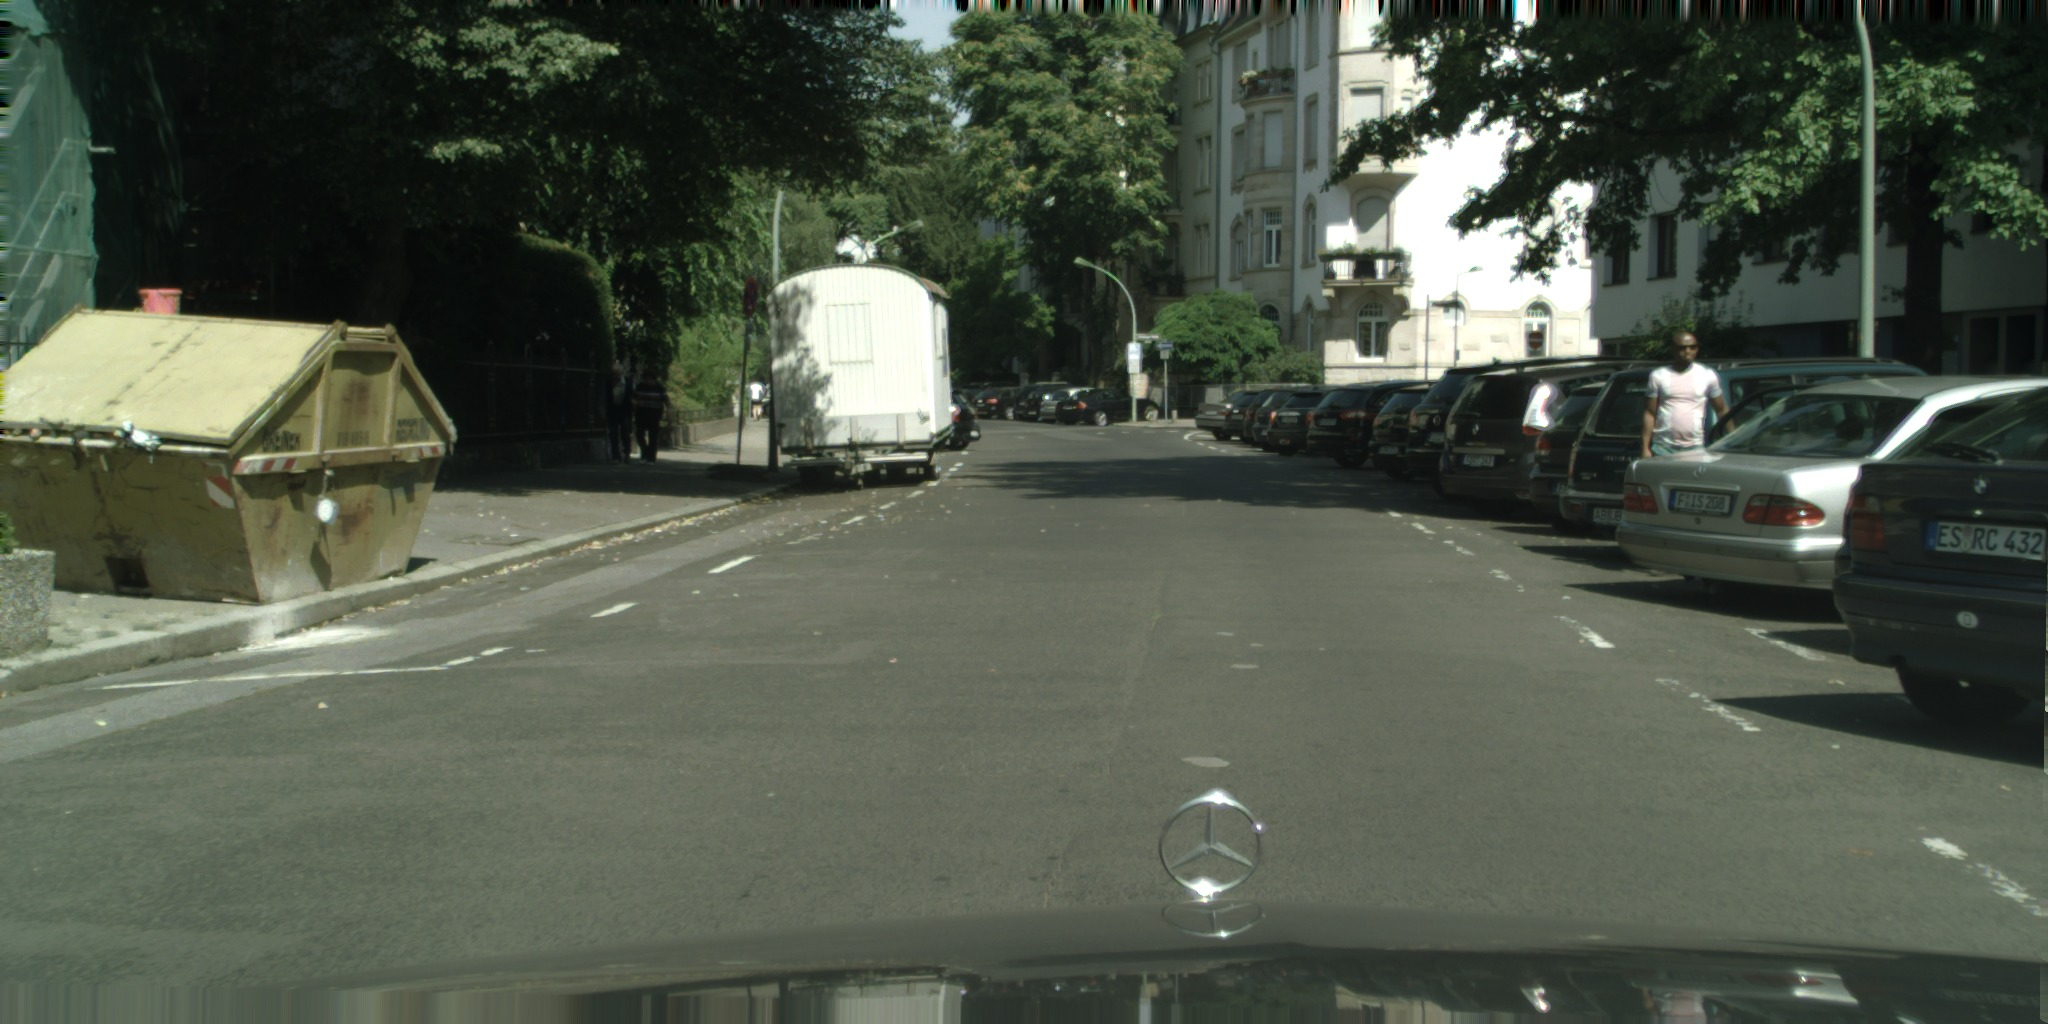car: (1615, 375, 2047, 602), (1832, 385, 2047, 731), (1558, 357, 1932, 528), (1438, 360, 1714, 517), (1406, 357, 1645, 500), (1528, 382, 1614, 532), (1306, 379, 1448, 467), (1368, 385, 1443, 481), (1268, 391, 1339, 456), (1055, 388, 1161, 427), (1195, 391, 1260, 441), (1252, 391, 1305, 451), (1244, 388, 1291, 445), (1013, 382, 1078, 420), (942, 389, 981, 450), (1223, 391, 1268, 441), (1040, 386, 1098, 424), (959, 380, 1019, 413), (973, 386, 1026, 419), (1022, 391, 1066, 417)
person: (1642, 332, 1731, 576), (630, 368, 672, 465), (605, 363, 636, 464), (748, 377, 766, 422), (759, 383, 773, 417)
